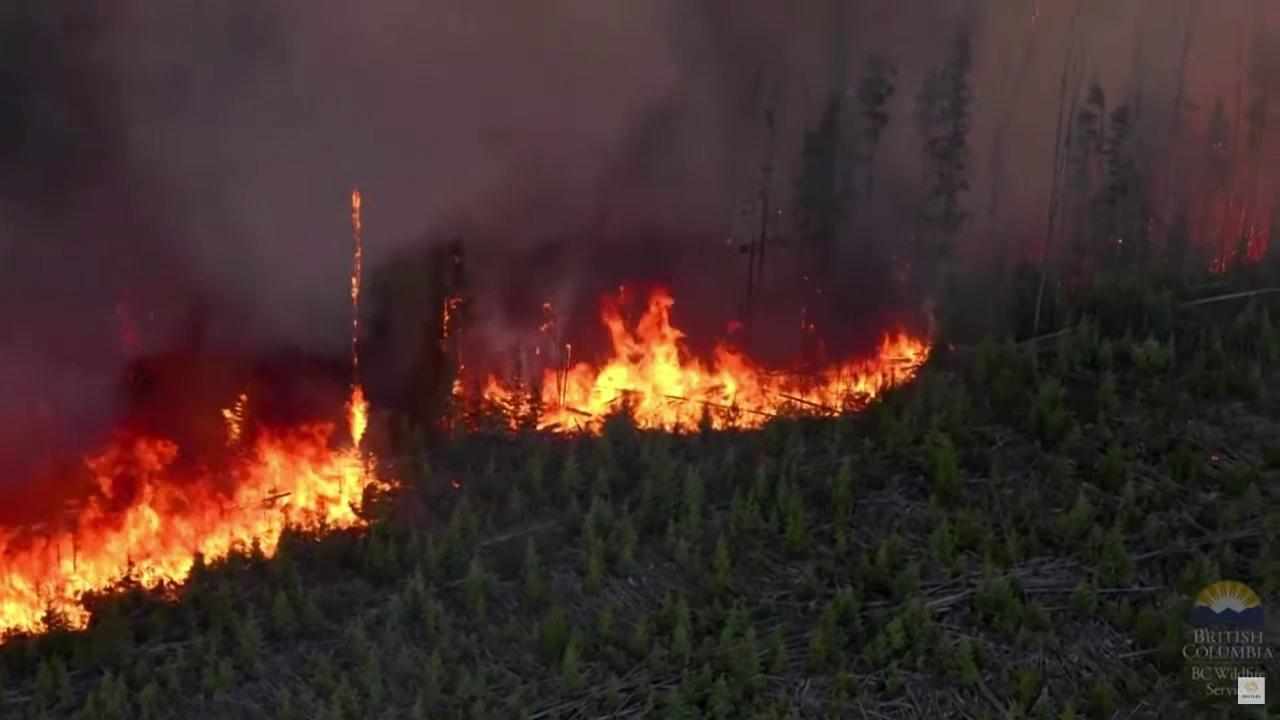fire: (0, 377, 413, 647), (428, 275, 940, 442)
smoke: (0, 0, 1280, 489)
